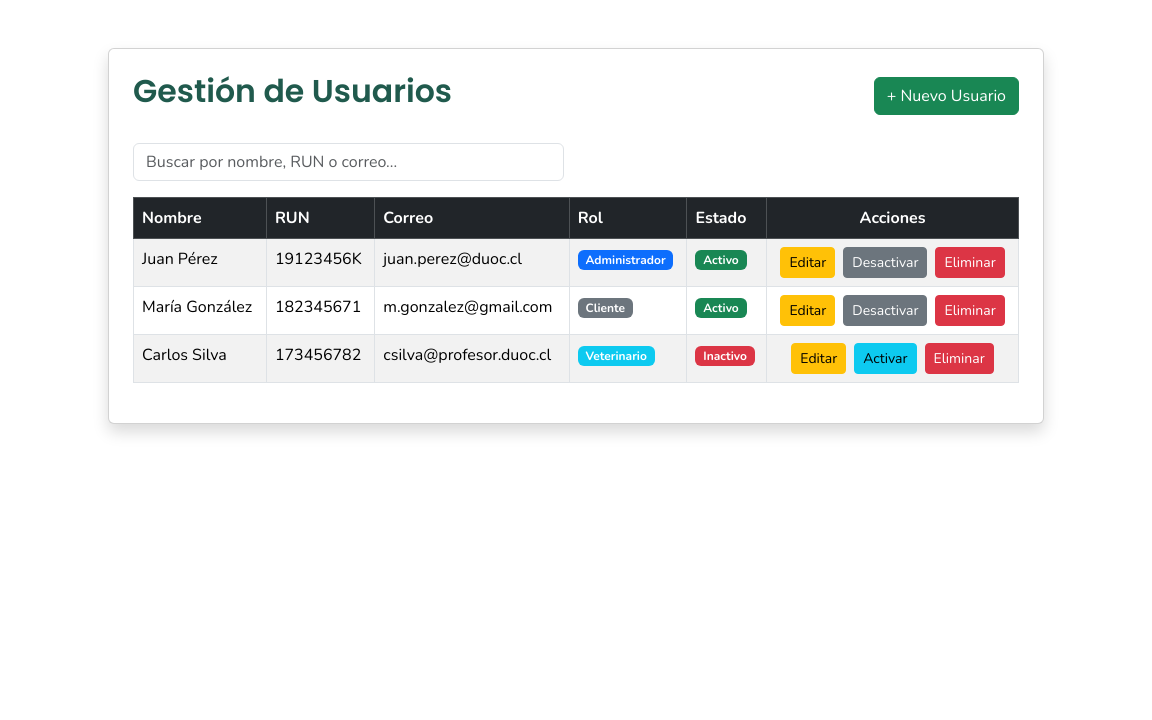
Test case: UsuariosAdmin Component › valida que el correo pertenezca a los dominios permitidos
Click the button "+ Nuevo Usuario". click: (946, 96)
box: [874,77,1019,115]
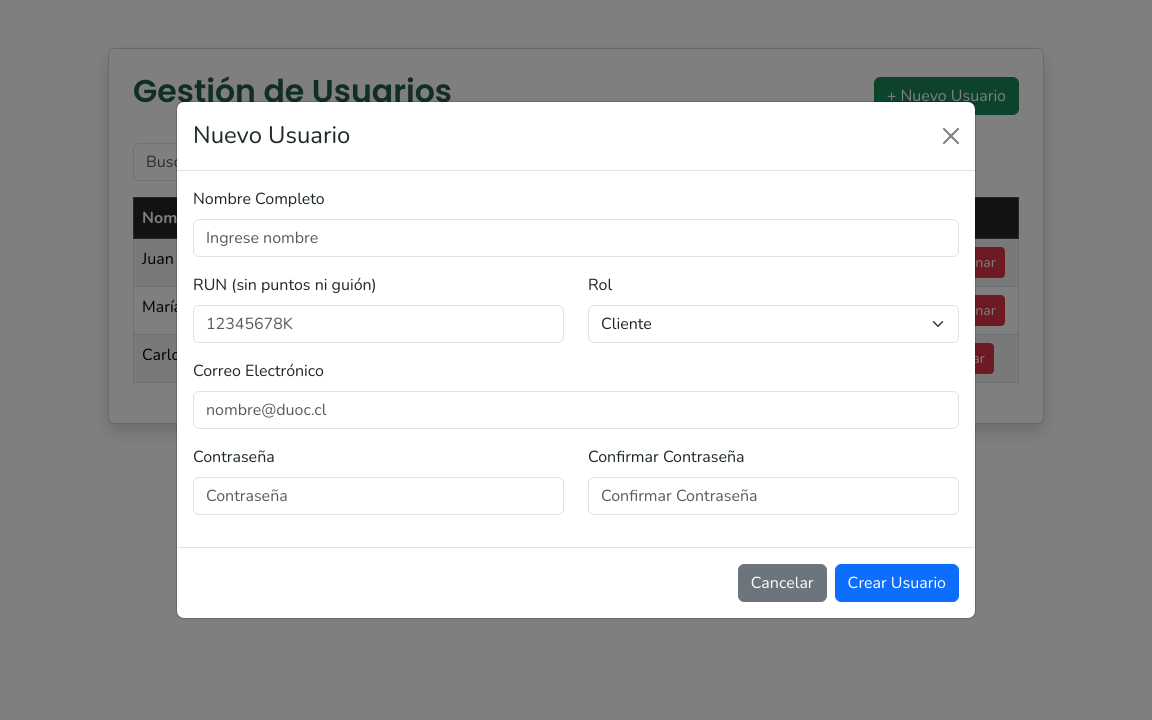
Type "Pedro Soto" into the field with placeholder "Ingrese nombre". click: (576, 238)
box: [193,219,959,257]
Type "111111111" into the field with placeholder "12345678K". click: (378, 324)
box: [193,305,564,343]
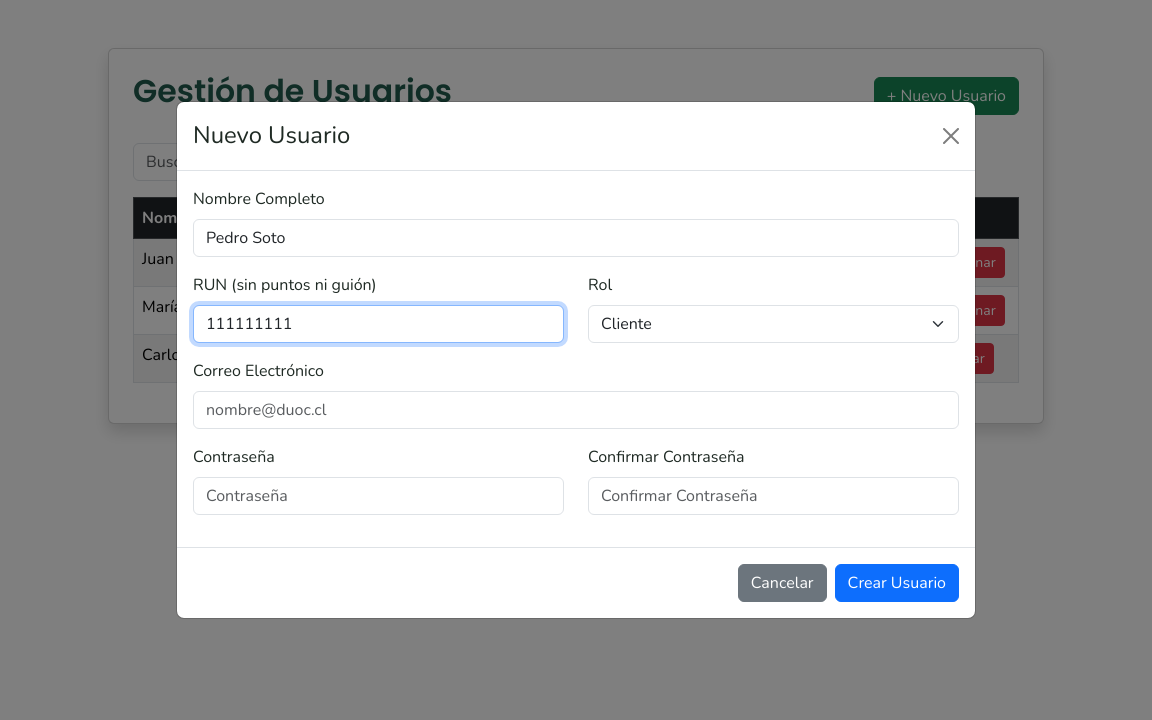
Type "pedro@hotmail.com" into the field with placeholder "nombre@duoc.cl". click: (576, 410)
box: [193,391,959,429]
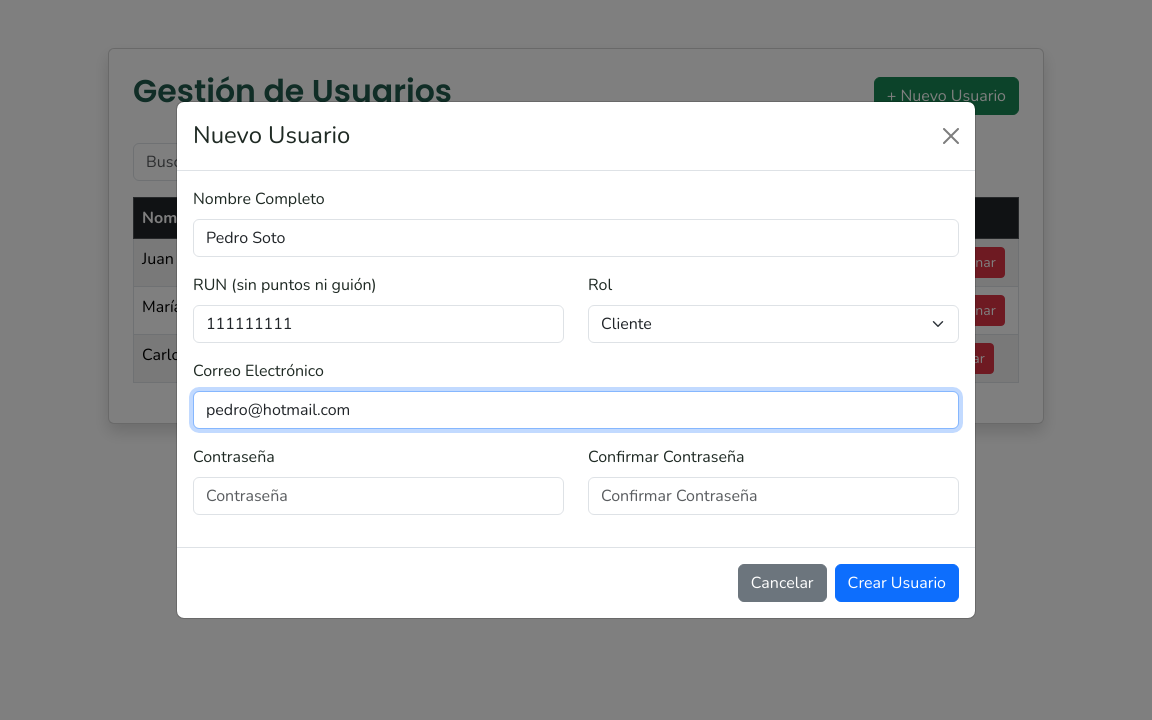
Type "123456" into the password field with placeholder "Contraseña". click: (378, 496)
box: [193,477,564,515]
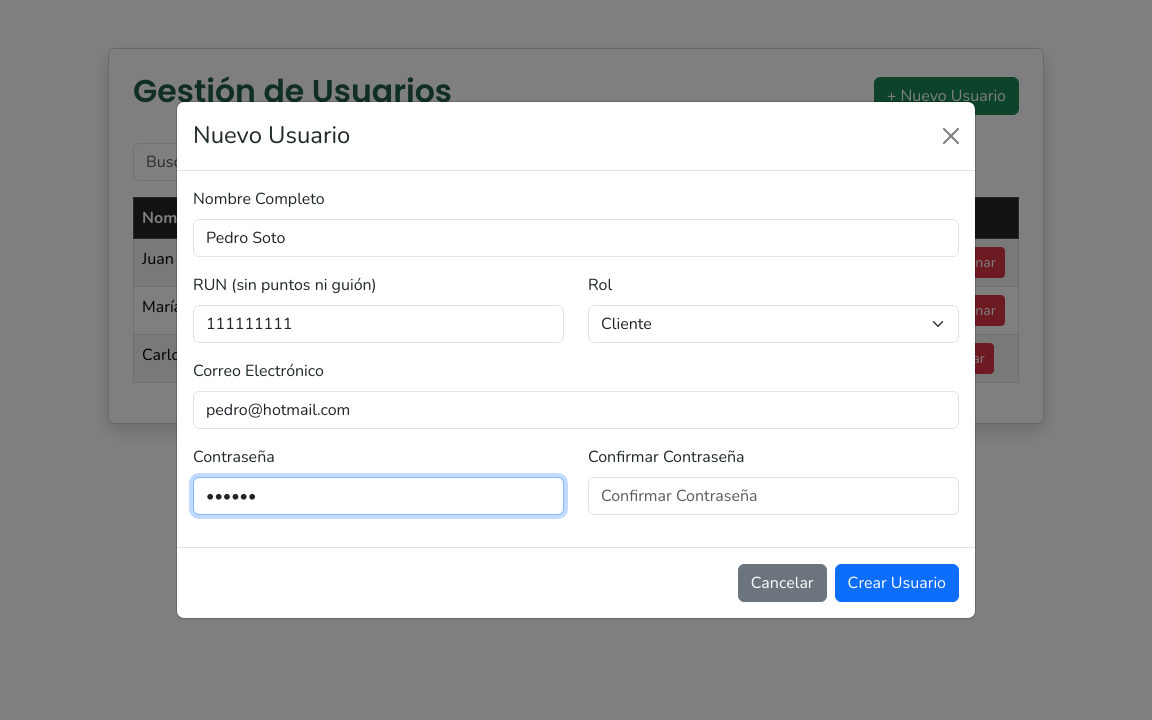
Type "123456" into the password field with placeholder "Confirmar Contraseña". click: (774, 496)
box: [588,477,959,515]
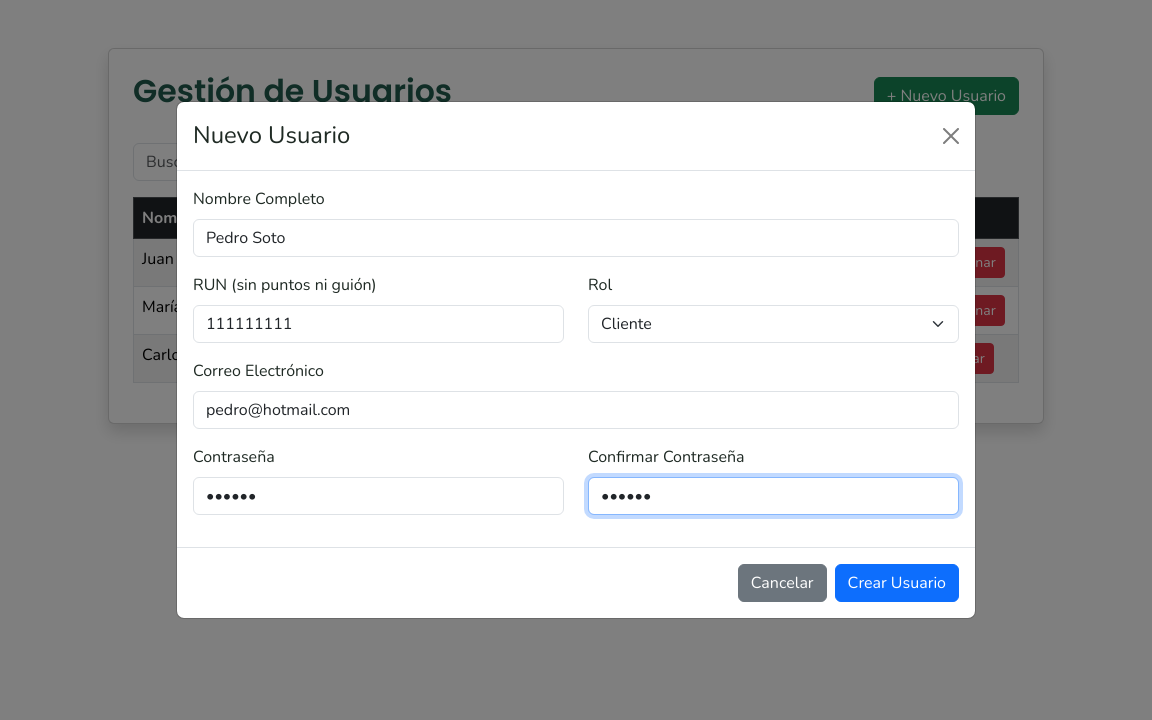
Click the button "Crear Usuario". click: (897, 583)
box: [835,564,959,602]
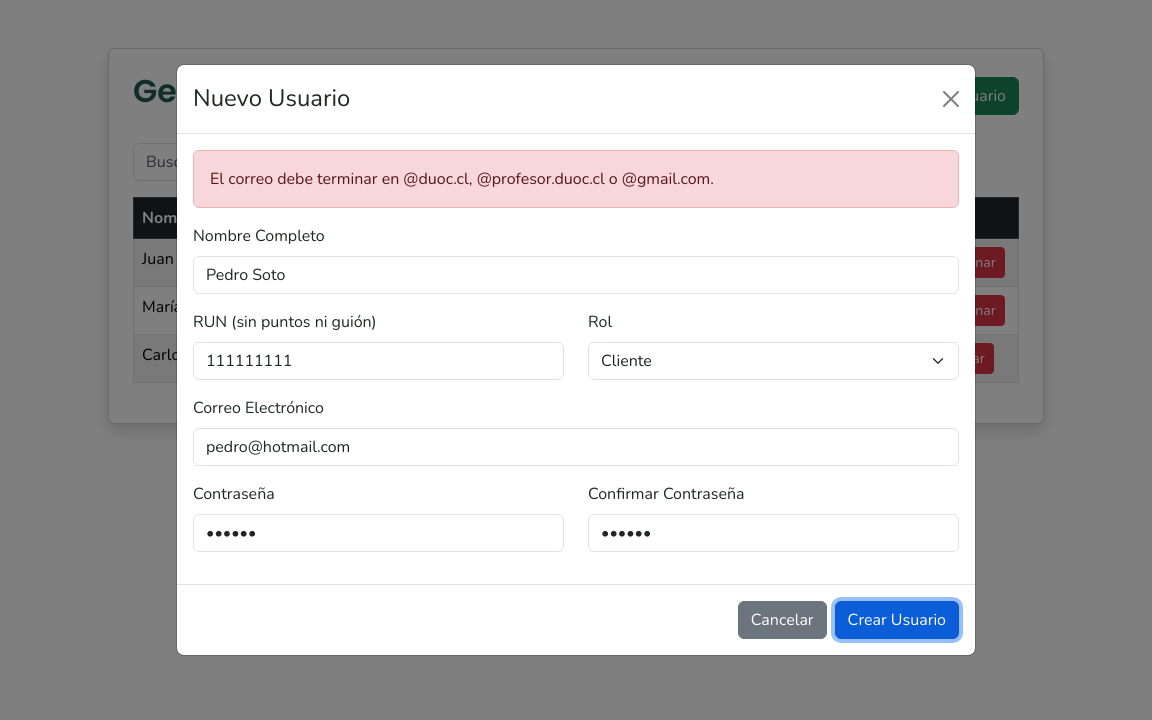
Expected: the text "El correo debe terminar en @duoc.cl, @profesor.duoc.cl o @gmail.com." is shown, [193,150,959,208]
